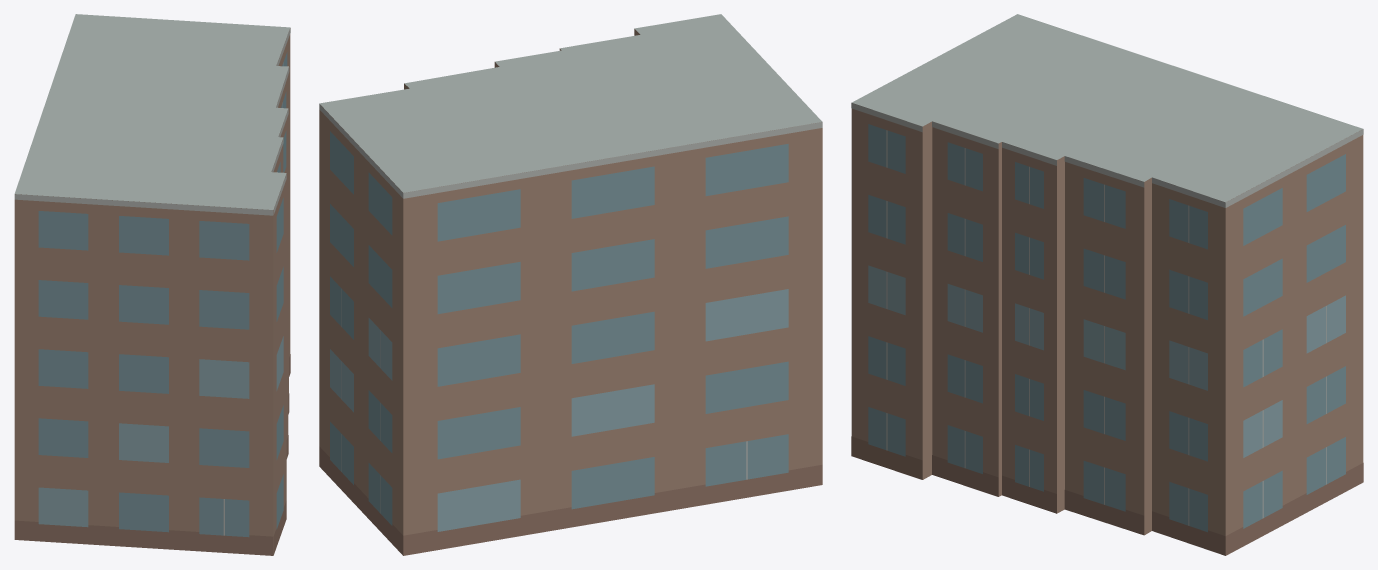
Rendered from survey-upis-32869935.glb.
3 renders of one model, left to right at view 1: azimuth 30°, elevation 25°; view 2: azimuth 150°, elevation 25°; view 3: azimuth 270°, elevation 25°, orthographic. The views are drawn at different scales.
Parts seen in each view (by area): view 1: survey-upis-32869935.tmp; view 2: survey-upis-32869935.tmp; view 3: survey-upis-32869935.tmp.
Boxes of the visible parts, left/top/right/bottom form: survey-upis-32869935.tmp: left=14, top=14, right=290, bottom=555; survey-upis-32869935.tmp: left=319, top=14, right=822, bottom=555; survey-upis-32869935.tmp: left=851, top=14, right=1363, bottom=555.
Bounding box in the file's own units: 17.15 × 15 × 19.69.
